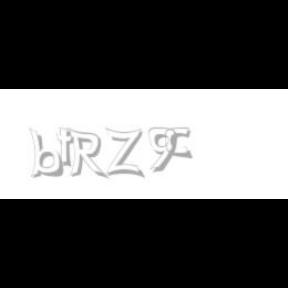9: (148, 128, 178, 172)
R: (67, 128, 105, 180)
Z: (106, 128, 142, 178)
b: (29, 128, 67, 178)
c: (164, 128, 194, 160)
t: (57, 128, 79, 168)
